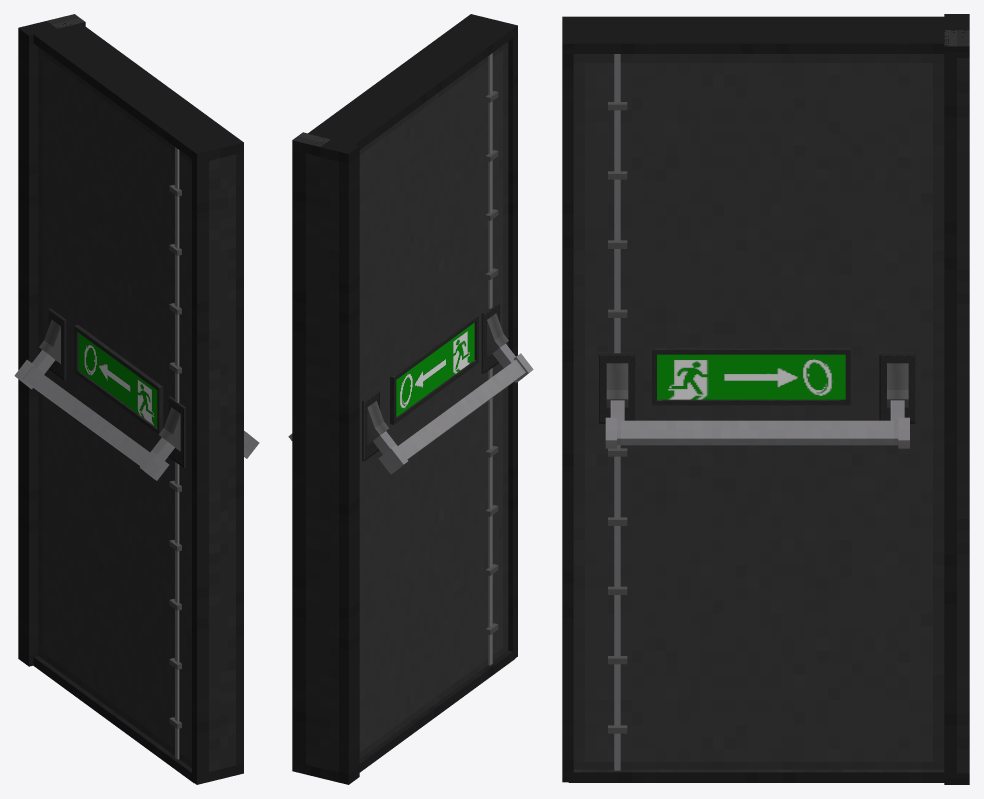
The model's file is Emergency Exit - Minecraft - Byron Dynamics.obj.
3 renders of one model, left to right at view 1: azimuth 30°, elevation 25°; view 2: azimuth 150°, elevation 25°; view 3: azimuth 270°, elevation 25°, orthographic. The views are drawn at different scales.
Visible parts, largest first — view 1: cube; view 2: cube; view 3: cube.
Boxes of the visible parts, box(x1,y1,x2,y2) form: cube: box(14, 14, 259, 784); cube: box(288, 14, 533, 784); cube: box(562, 14, 969, 784).
Bounding box in the file's own units: 6.12 × 32.02 × 16.
6 materials, 6 textured.
